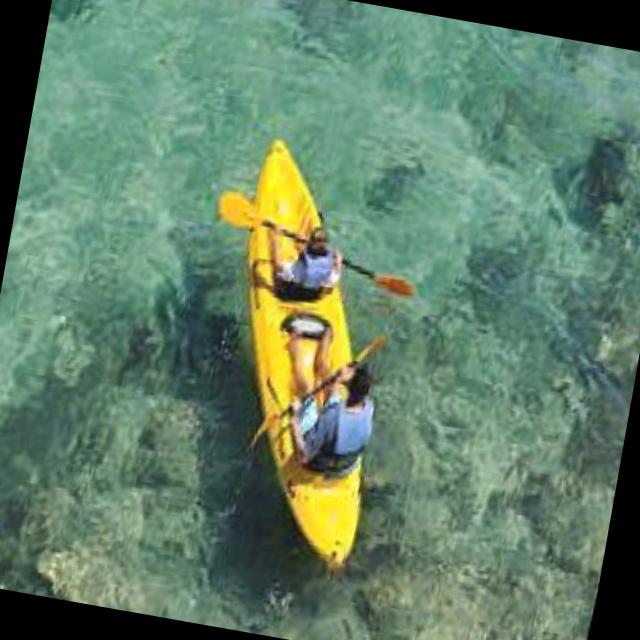kayak: (224, 139, 418, 565), (224, 138, 369, 565)
